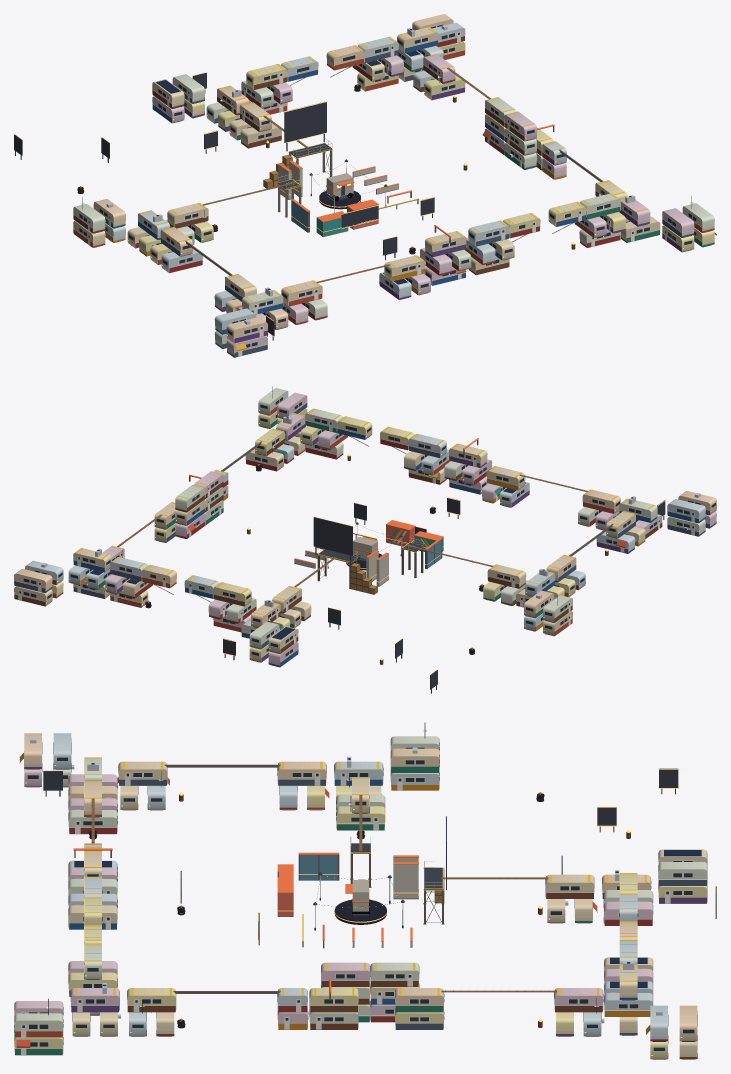
3 renders of one model, top to bottom at view 1: azimuth 30°, elevation 25°; view 2: azimuth 150°, elevation 25°; view 3: azimuth 270°, elevation 25°, orthographic. The views are drawn at different scales.
Parts seen in each view (by area): view 1: district_city_vertical.lod0; view 2: district_city_vertical.lod0; view 3: district_city_vertical.lod0.
Part boxes in pixels (left/top/right/bottom): district_city_vertical.lod0: left=14, top=14, right=716, bottom=357; district_city_vertical.lod0: left=14, top=386, right=716, bottom=693; district_city_vertical.lod0: left=14, top=722, right=716, bottom=1059.
Bounding box in the file's own units: 95.85 × 13 × 97.13.
